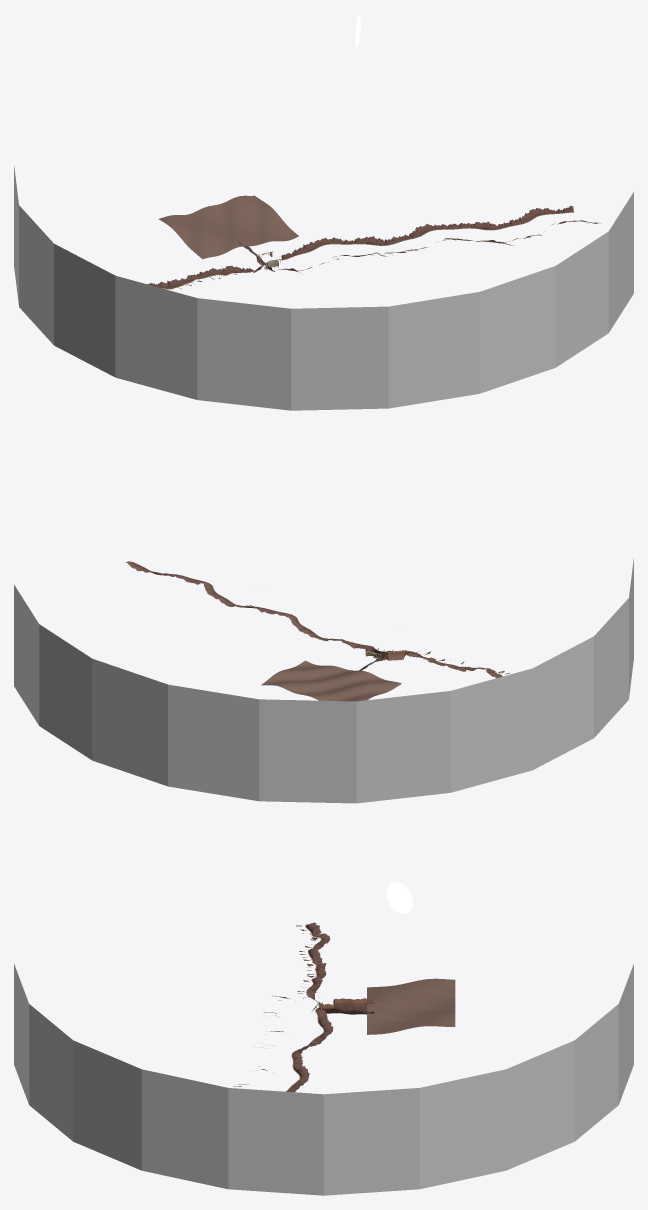
Rendered from hoover.glb.
3 views of the same model, one above another, from view 1: azimuth 30°, elevation 25°; view 2: azimuth 150°, elevation 25°; view 3: azimuth 270°, elevation 25° (orthographic).
Parts seen in each view (by area): view 1: BoulderBasin, BlackCanyon_020, BlackCanyon_027, BlackCanyon_013; view 2: BoulderBasin, BlackCanyon_020, BlackCanyon_027; view 3: BoulderBasin, BlackCanyon_020, BlackCanyon_027, Sun.
Boxes of the visible parts, bbox=[...] form: BoulderBasin: bbox=[14, 165, 633, 410]; BlackCanyon_020: bbox=[167, 202, 272, 269]; BlackCanyon_027: bbox=[226, 195, 328, 246]; BlackCanyon_013: bbox=[158, 216, 224, 278]; BoulderBasin: bbox=[14, 558, 633, 803]; BlackCanyon_020: bbox=[291, 650, 387, 701]; BlackCanyon_027: bbox=[261, 636, 327, 691]; BoulderBasin: bbox=[14, 964, 633, 1195]; BlackCanyon_020: bbox=[321, 983, 455, 1018]; BlackCanyon_027: bbox=[323, 1012, 455, 1034]; Sun: bbox=[386, 882, 412, 913].
Bounding box in the file's own units: 15400 × 5952 × 15400.
